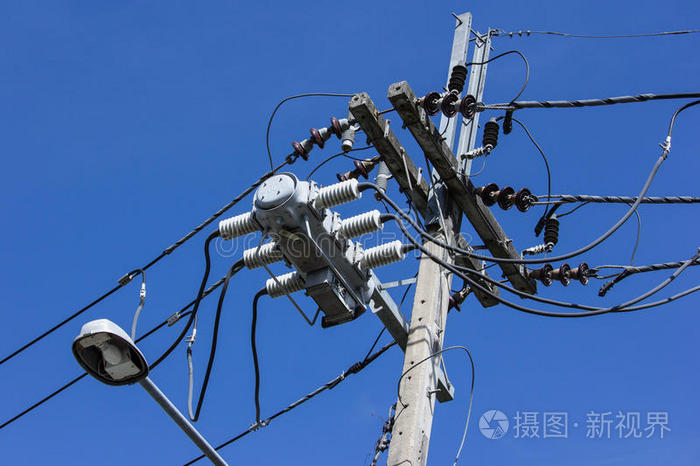insulator: (295, 115, 348, 158), (419, 91, 479, 121), (476, 181, 531, 211), (538, 259, 591, 290), (335, 160, 368, 181)
